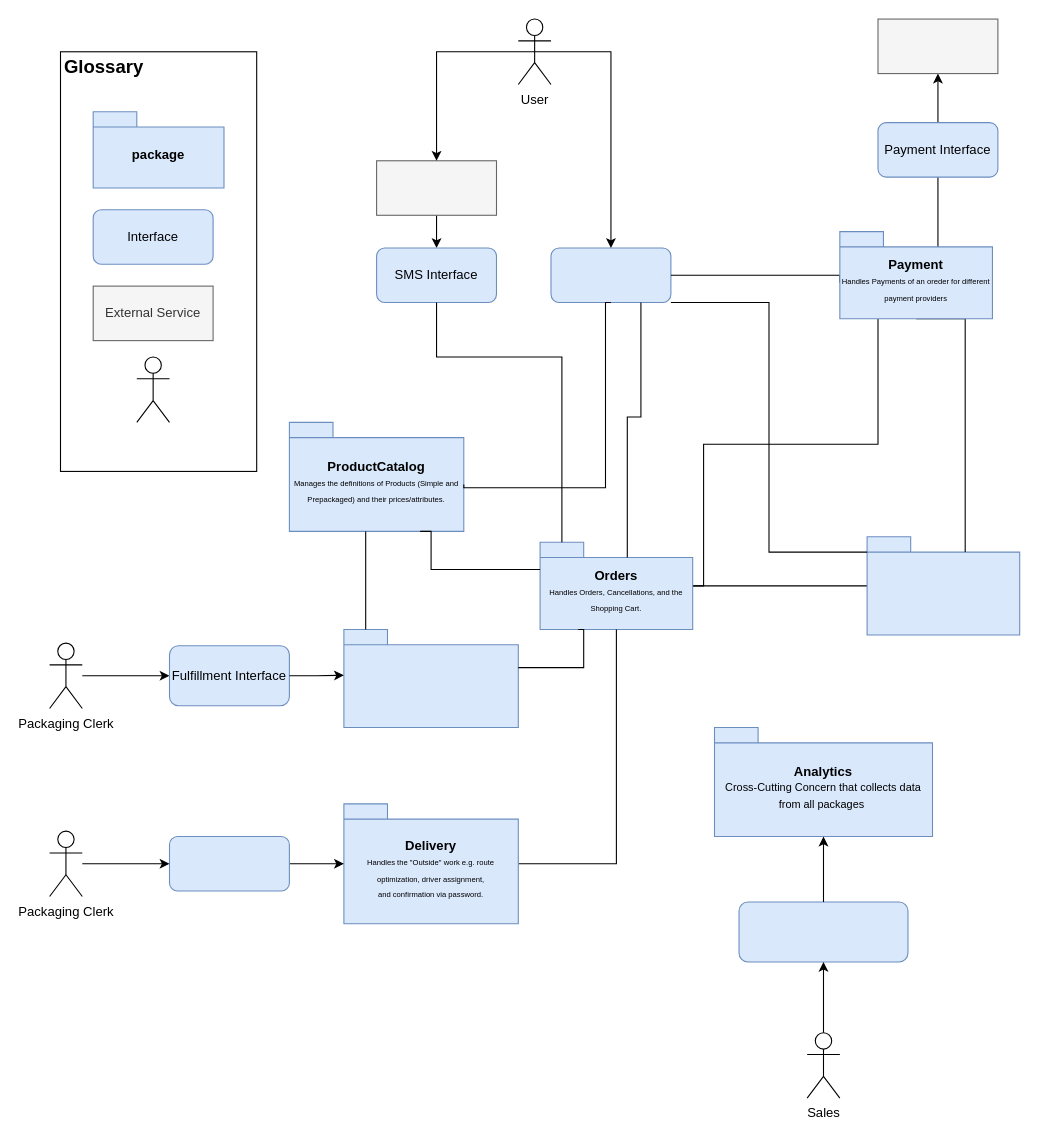
Image size: 1039x1140. Some labels were removed from this diagram. Here are the shapes that lost their labels. From the top down, the centre of each, then its label:
point (937, 46): Payment Provider
point (436, 187): SMS Provider
point (610, 274): Web Interface
point (152, 389): Actor
point (943, 585): AccountManager Manages Customer profiles, addresses, authentication logic.
point (430, 678): Fulfillment Handles the "Inside" work e.g. assemble orders and print label.
point (228, 863): Delivery Interface
point (823, 931): Analytics Dashboard Interface
